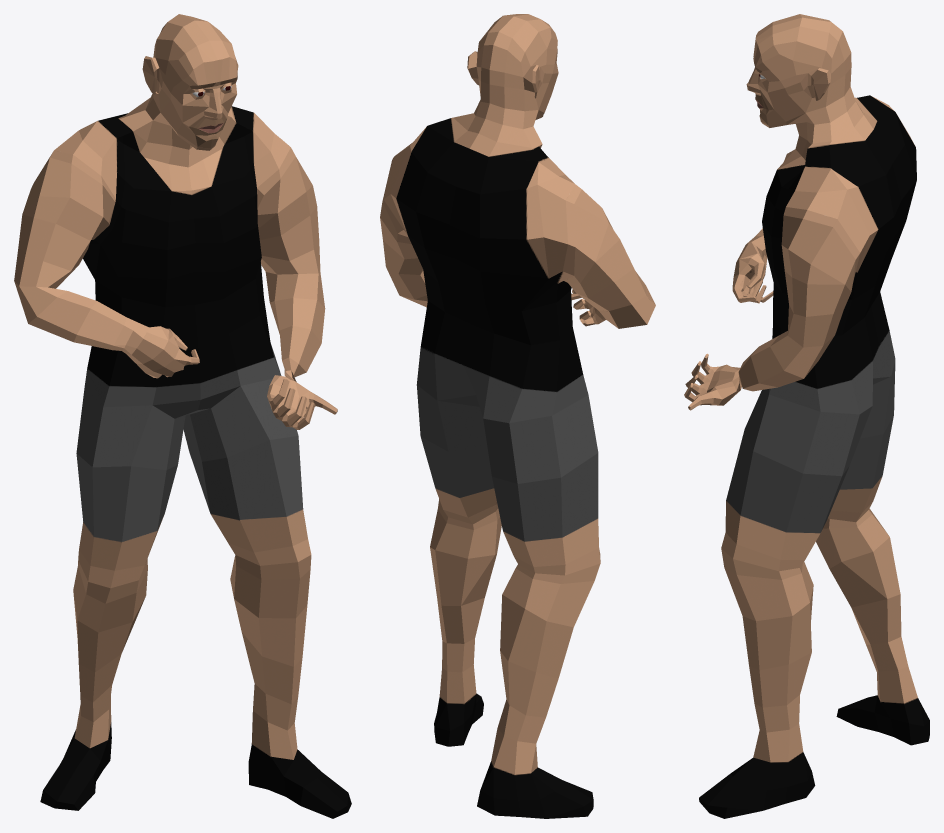
Rendered from PlayerIdle(201).obj.
The picture shows the model from 3 angles, left to right: view 1: azimuth 30°, elevation 25°; view 2: azimuth 150°, elevation 25°; view 3: azimuth 270°, elevation 25°; orthographic projection. The views are drawn at different scales.
Visible parts, largest first — view 1: Plane002; view 2: Plane002; view 3: Plane002.
Boxes of the visible parts, box(x1,y1,x2,y2) form: Plane002: box(14, 14, 351, 818); Plane002: box(380, 14, 655, 818); Plane002: box(684, 14, 929, 818).
Size of the model in its own units: 683 by 1797 by 536.
